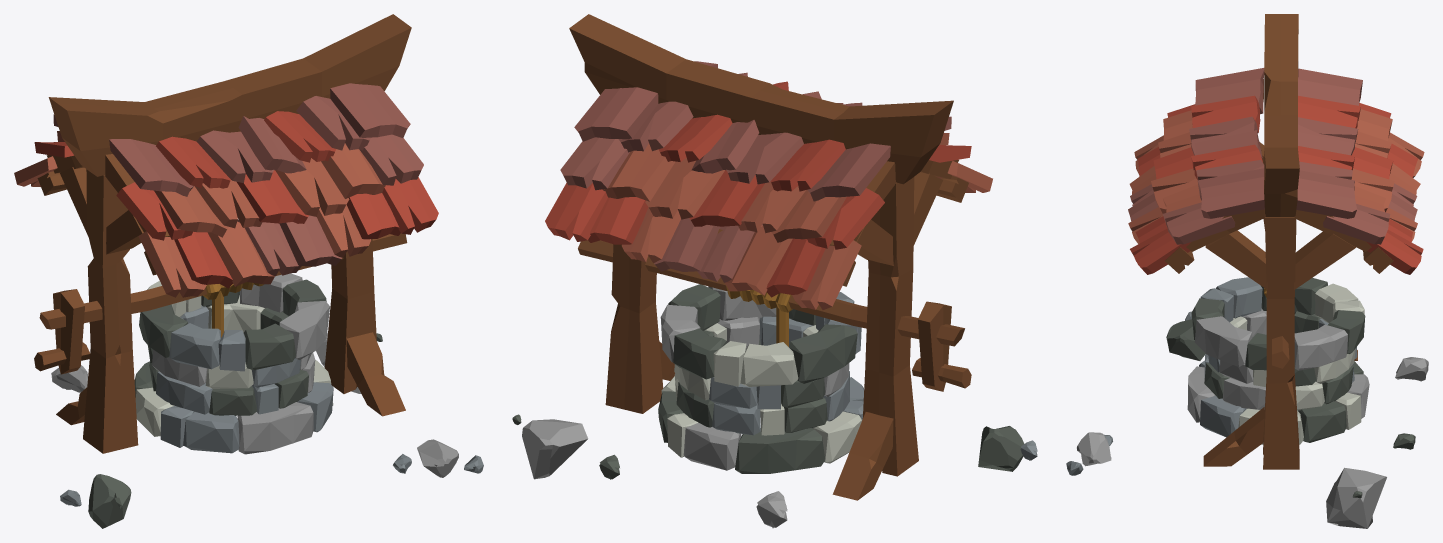
Rendered from fontaine-1.glb.
The picture shows the model from 3 angles, left to right: view 1: azimuth 30°, elevation 25°; view 2: azimuth 150°, elevation 25°; view 3: azimuth 270°, elevation 25°; orthographic projection. The views are drawn at different scales.
Visible parts, largest first — view 1: Cube_Stone 1_0; view 2: Cube_Stone 1_0; view 3: Cube_Stone 1_0.
Part boxes in pixels (x1=…): Cube_Stone 1_0: x1=14, y1=14, x2=483, y2=528; Cube_Stone 1_0: x1=512, y1=14, x2=1037, y2=528; Cube_Stone 1_0: x1=1066, y1=14, x2=1428, y2=528.
Bounding box in the file's own units: 27.13 × 25.43 × 22.95.
Materials: 1 (1 with a texture image).
